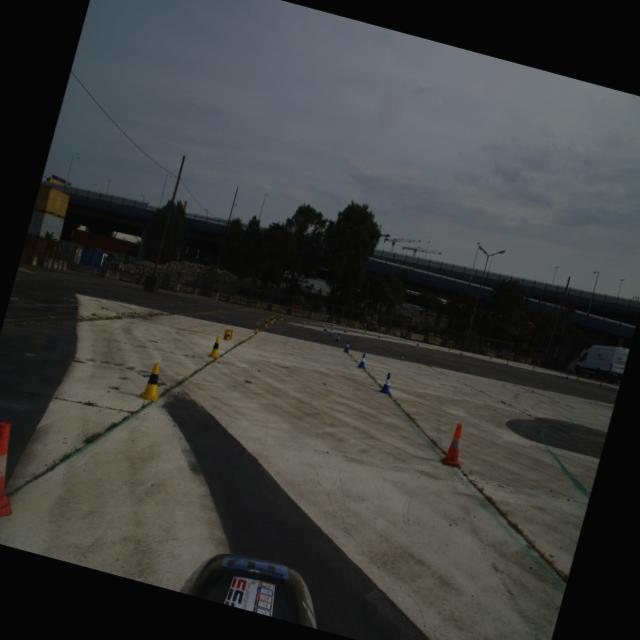blue_cone: (378, 372, 395, 394), (356, 352, 369, 368), (342, 340, 352, 352), (334, 332, 341, 342), (328, 328, 334, 336), (322, 324, 328, 331), (343, 327, 348, 333), (377, 332, 381, 338), (416, 340, 420, 346), (505, 360, 509, 366), (565, 374, 569, 379), (459, 350, 463, 354)
orange_cone: (0, 415, 34, 534), (439, 421, 472, 469), (598, 380, 604, 388)
yellow_cone: (137, 360, 169, 403), (206, 334, 225, 360), (222, 328, 233, 341), (253, 321, 261, 334), (262, 317, 270, 327), (268, 316, 274, 324), (272, 314, 276, 322), (279, 314, 284, 320), (329, 322, 334, 328), (302, 317, 306, 323), (363, 329, 367, 334), (448, 346, 452, 351), (532, 365, 536, 370), (576, 374, 580, 379), (488, 356, 492, 360), (404, 337, 407, 342)
